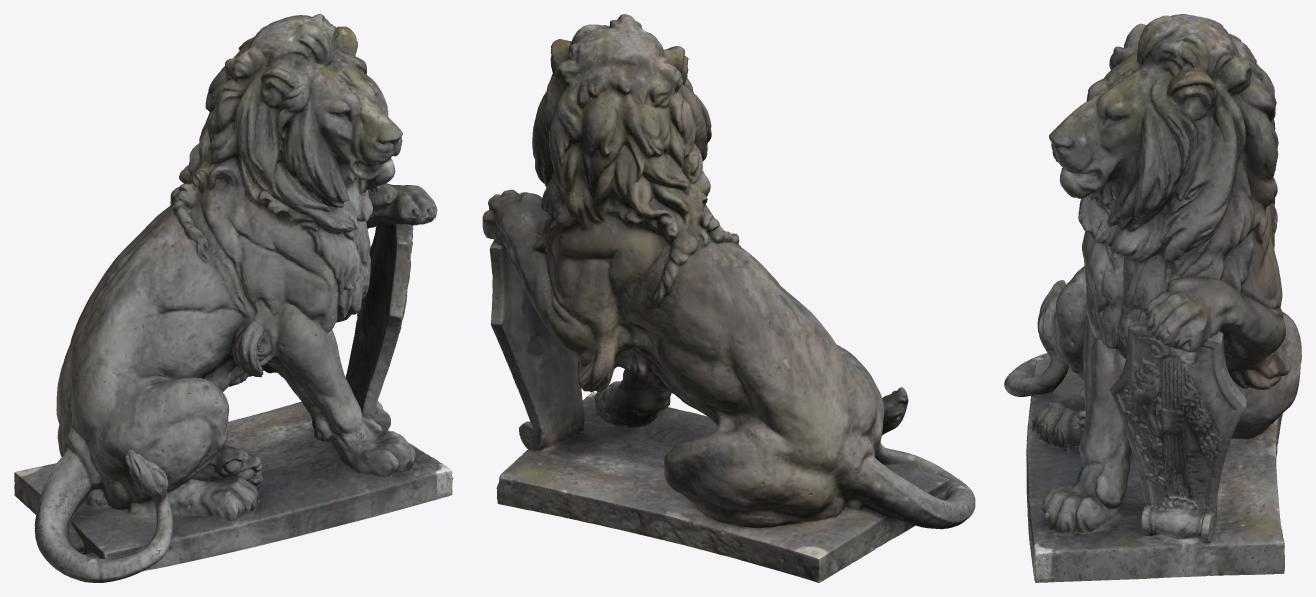
File: lion.glb
3 renders of one model, left to right at view 1: azimuth 30°, elevation 25°; view 2: azimuth 150°, elevation 25°; view 3: azimuth 270°, elevation 25°, orthographic. The views are drawn at different scales.
Visible parts, largest first — view 1: Object_2, Object_3, Object_4, Object_5, Object_6, Object_7; view 2: Object_3, Object_2, Object_5, Object_6, Object_4, Object_7; view 3: Object_3, Object_6, Object_5, Object_2, Object_4, Object_7.
Boxes of the visible parts, x1,y1,x2,y2 form: Object_2: (14,14,452,571); Object_3: (100,15,451,531); Object_4: (34,14,435,582); Object_5: (14,106,453,582); Object_6: (34,177,437,572); Object_7: (244,254,381,392); Object_3: (532,14,869,572); Object_2: (497,20,966,582); Object_5: (489,119,975,579); Object_6: (482,163,971,560); Object_4: (505,25,972,529); Object_7: (491,277,759,532); Object_3: (1026,14,1301,554); Object_6: (1004,190,1301,574); Object_5: (1004,118,1285,581); Object_2: (1026,14,1297,582); Object_4: (1032,36,1268,576); Object_7: (1083,232,1301,488).
Size of the model in its own units: 1.24 by 1.26 by 0.6584.
2 materials, 1 textured.
